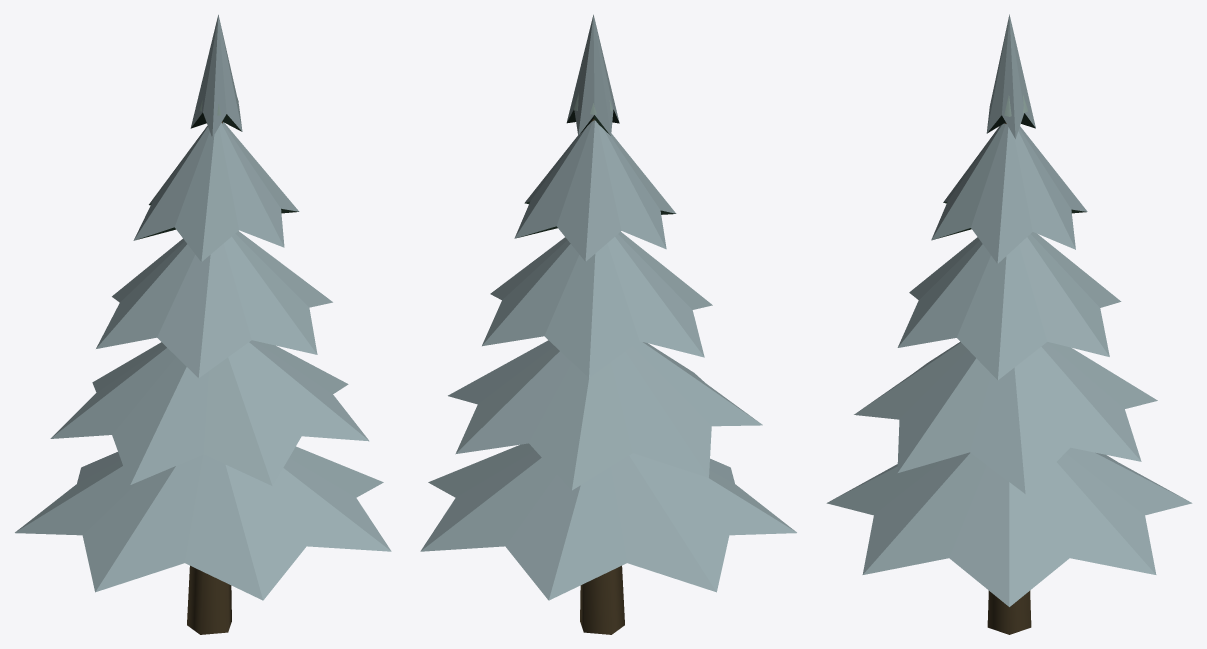
The model's file is snowpine.glb.
3 renders of one model, left to right at view 1: azimuth 30°, elevation 25°; view 2: azimuth 150°, elevation 25°; view 3: azimuth 270°, elevation 25°, orthographic.
Visible parts, largest first — view 1: snowpine; view 2: snowpine; view 3: snowpine.
Boxes of the visible parts, box(x1,y1,x2,y2) form: snowpine: box(15, 14, 391, 634); snowpine: box(420, 14, 796, 634); snowpine: box(826, 14, 1192, 634).
Bounding box in the file's own units: 20 × 35.42 × 19.15.
